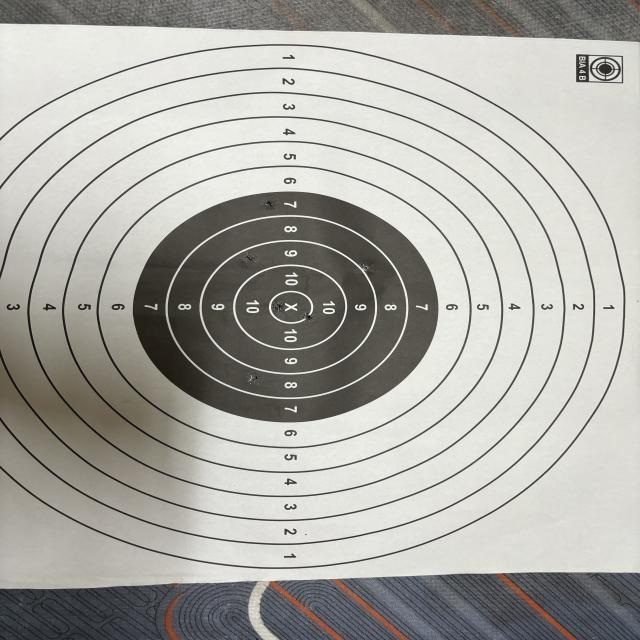bullet: (238, 251, 257, 267), (271, 301, 285, 314), (248, 372, 260, 383), (360, 264, 372, 272), (264, 200, 272, 208), (304, 316, 312, 320)
target: (0, 25, 640, 588)
